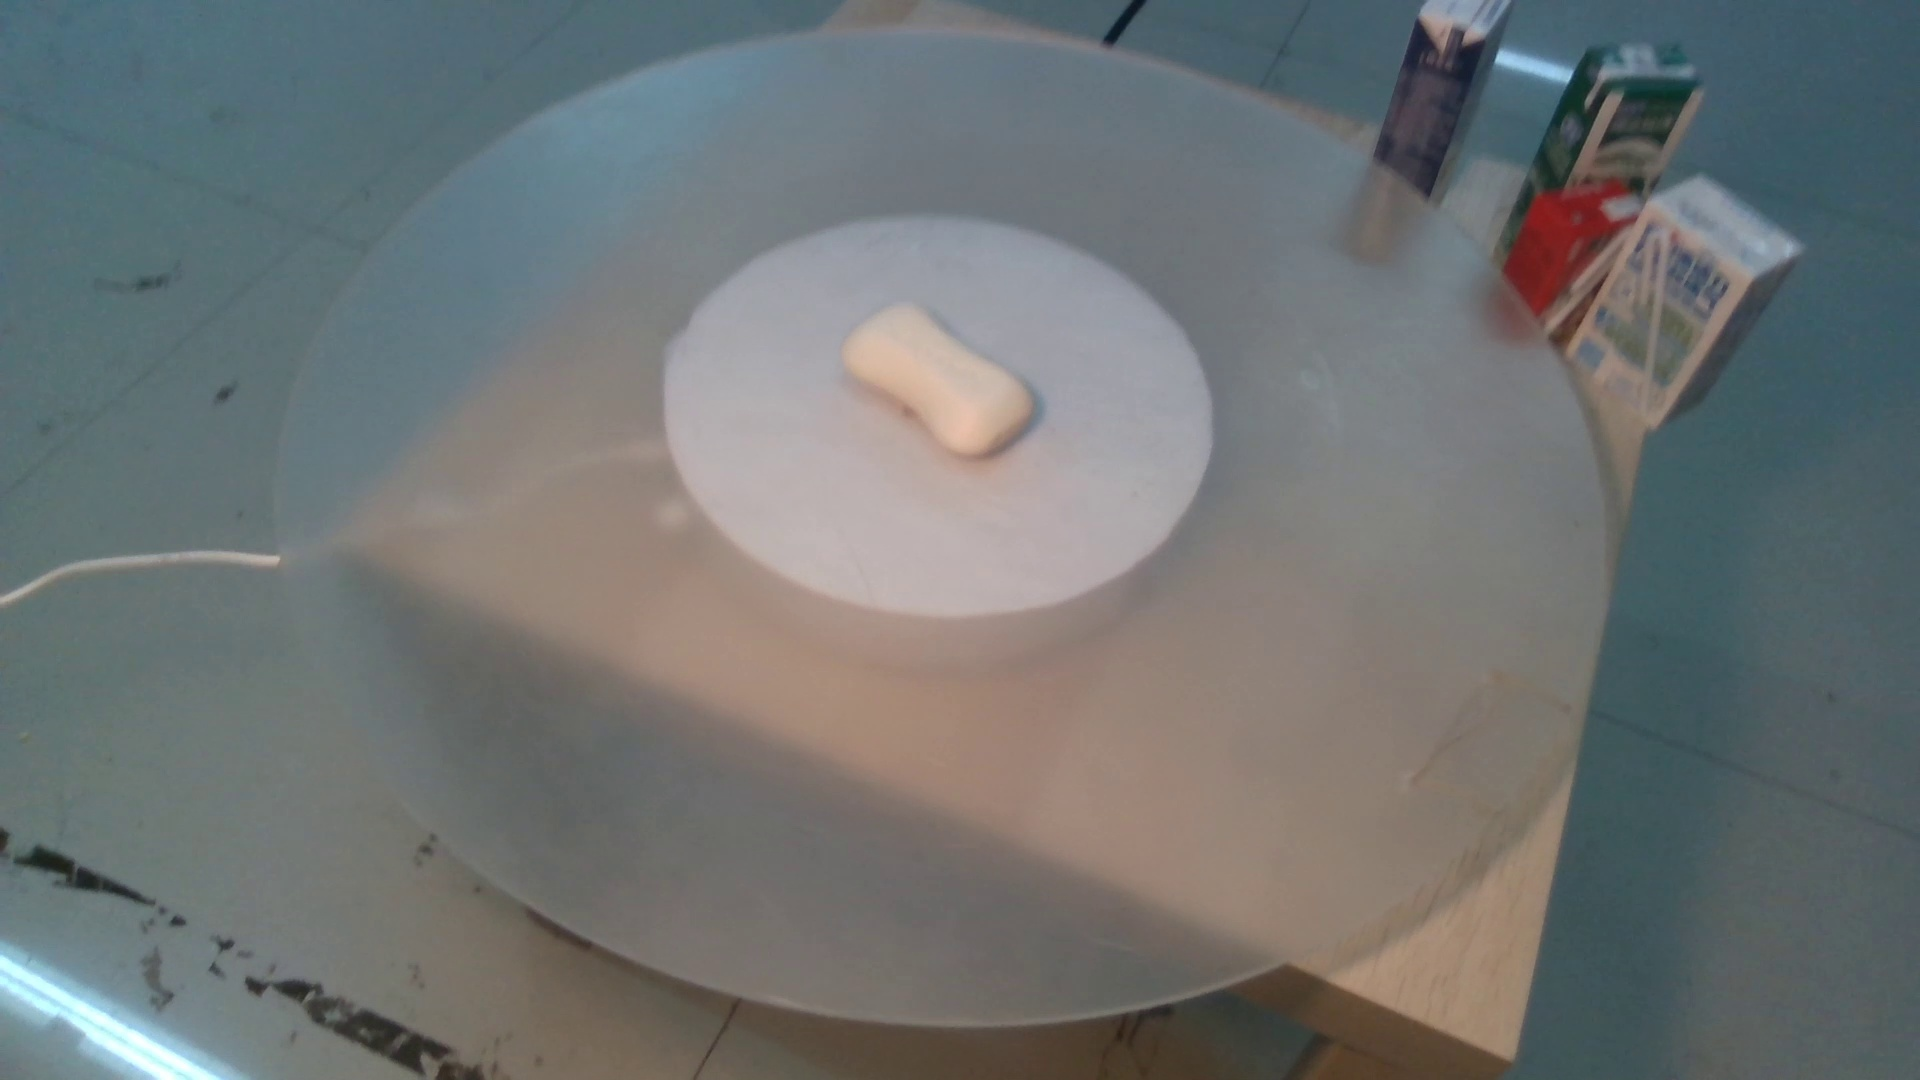CA003_1: (837, 291, 1043, 467)
